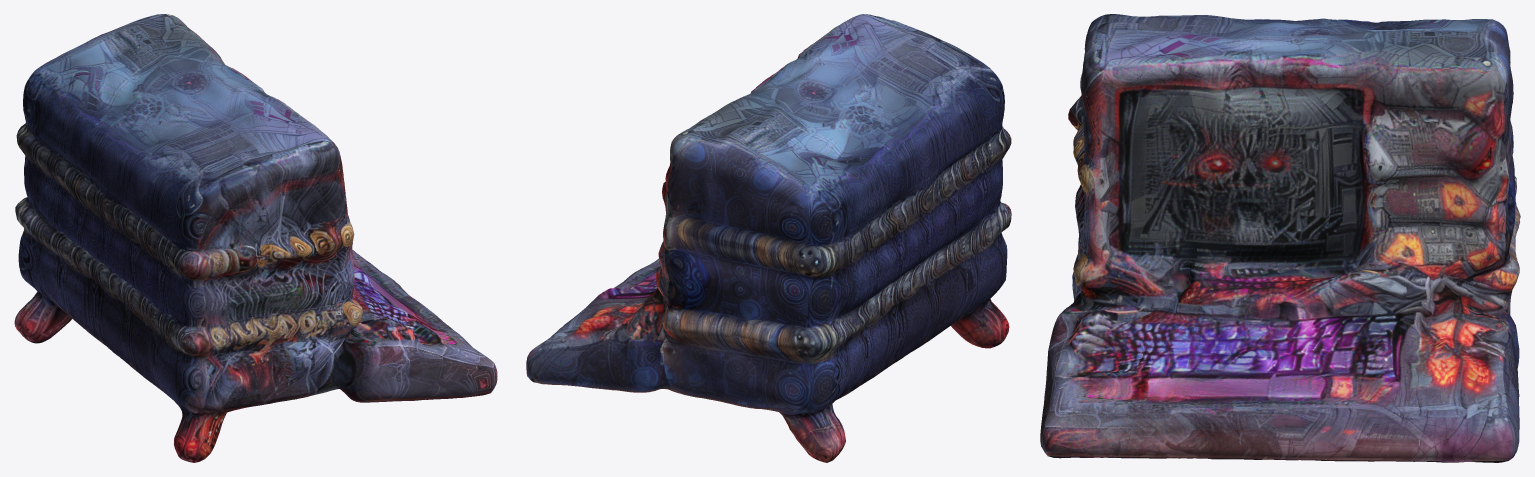
The picture shows the model from 3 angles, left to right: view 1: azimuth 30°, elevation 25°; view 2: azimuth 150°, elevation 25°; view 3: azimuth 270°, elevation 25°; orthographic projection. The views are drawn at different scales.
Parts seen in each view (by area): view 1: Mesh_0; view 2: Mesh_0; view 3: Mesh_0.
Boxes of the visible parts, x1,y1,x2,y2 form: Mesh_0: (14,14,497,462); Mesh_0: (526,14,1011,462); Mesh_0: (1040,14,1520,462).
Size of the model in its own units: 103 by 96.77 by 120.
Materials: 1 (1 with a texture image).
